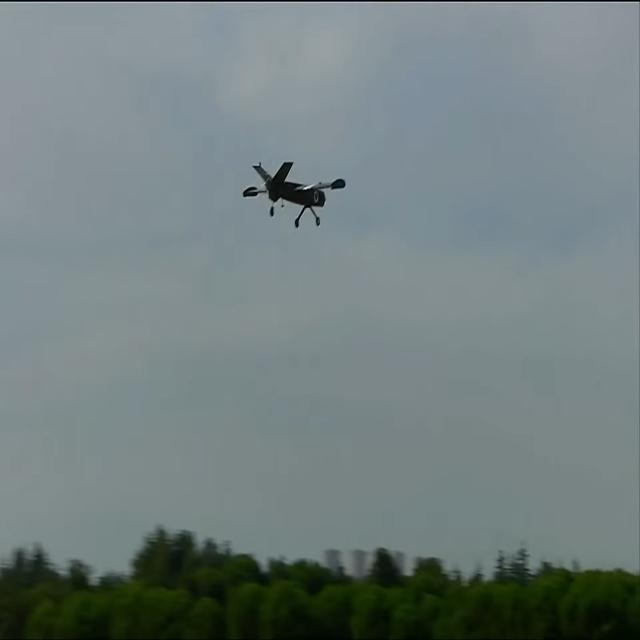iha: (274, 193, 315, 196)
